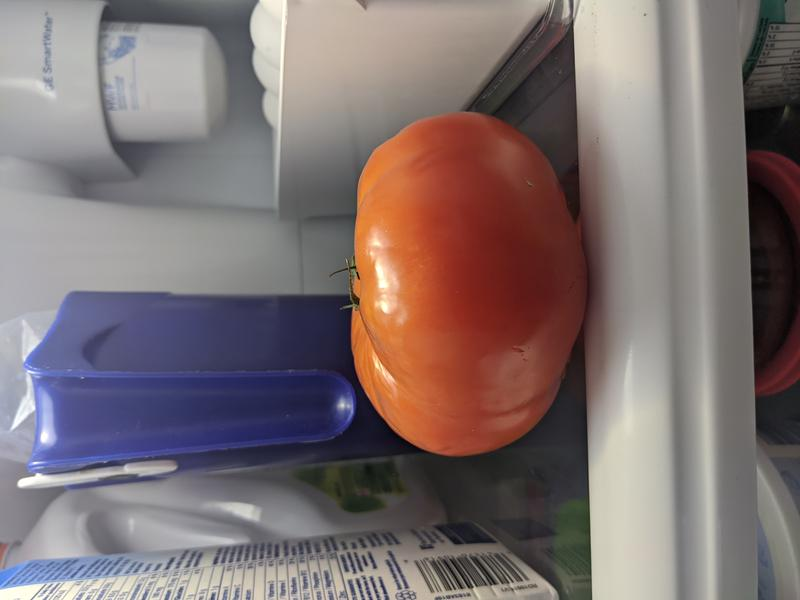tomato: (348, 113, 589, 457)
